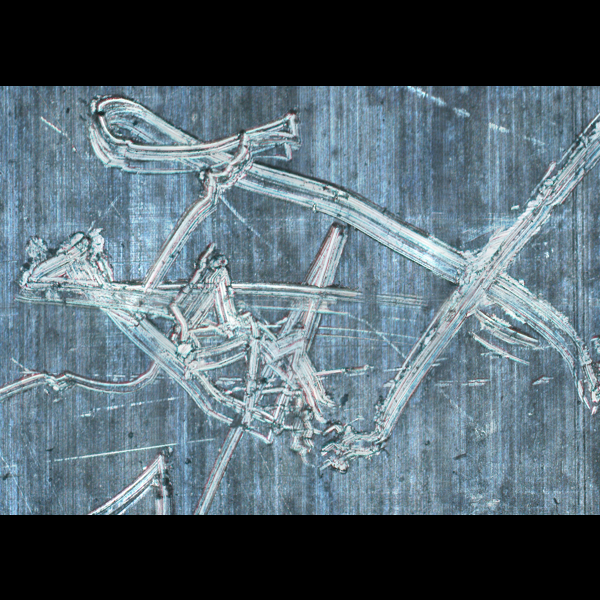d: (320, 138, 600, 458), (142, 232, 383, 474), (72, 92, 318, 210), (8, 217, 151, 321), (0, 335, 166, 401), (74, 435, 194, 514)
